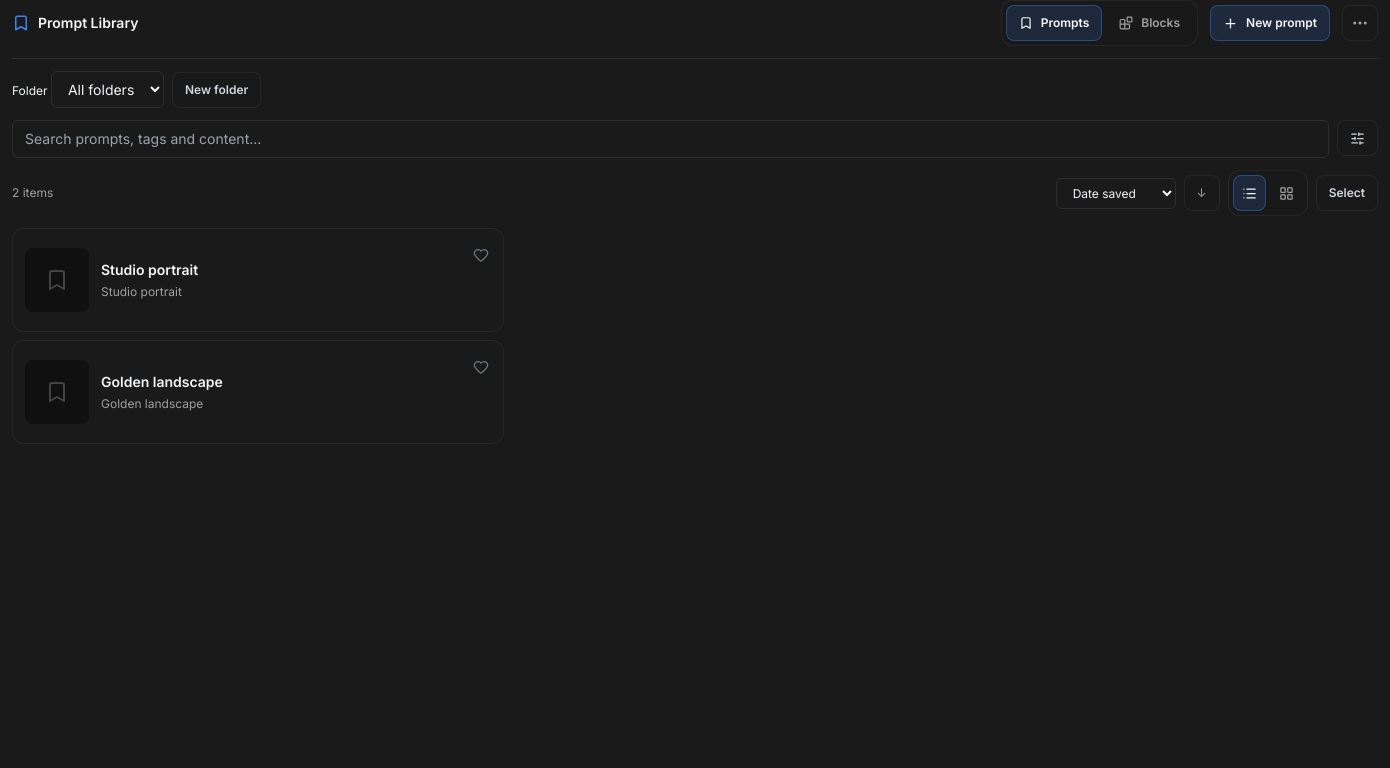
integrated Prompt Library › waits for tag saves before favorite on a block and uses the latest revision
The image size is (1390, 768).
Expected: the button with aria-label "Open Studio portrait" is shown, [25, 248, 491, 312]
Click the button "Blocks". click: (1150, 23)
box: [1106, 5, 1193, 41]
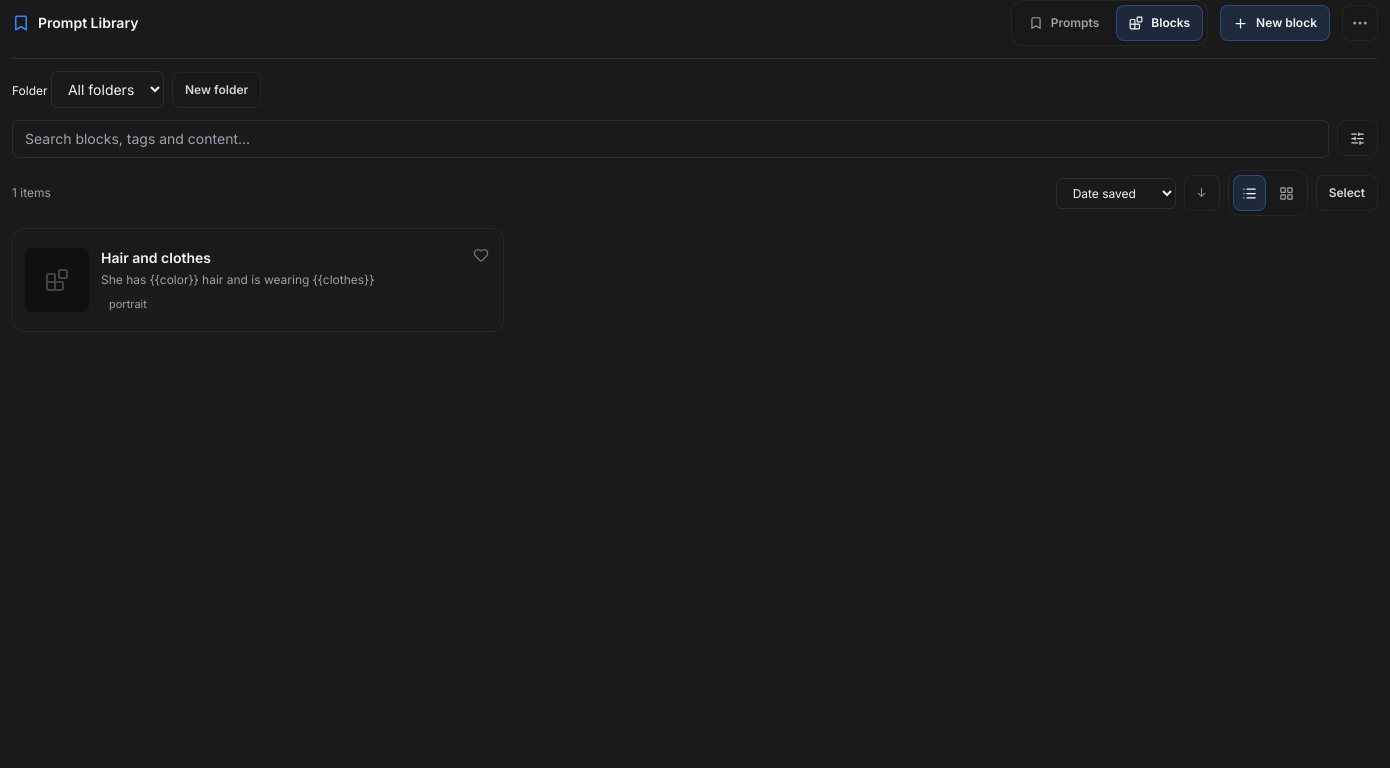
Click the button with aria-label "Open Hair and clothes". click: (258, 280)
box: [25, 248, 491, 312]
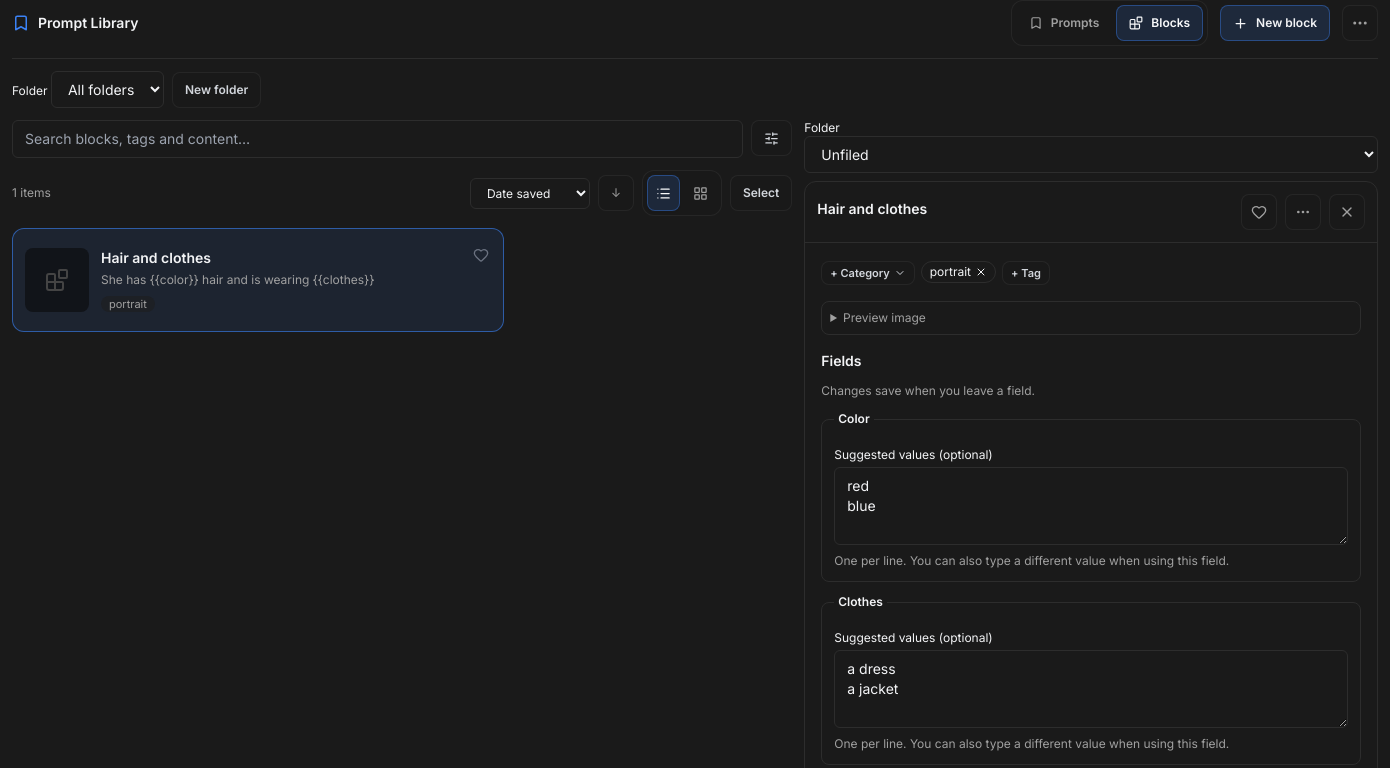
Click the button "+ Tag". click: (1026, 273)
box: [1002, 261, 1050, 285]
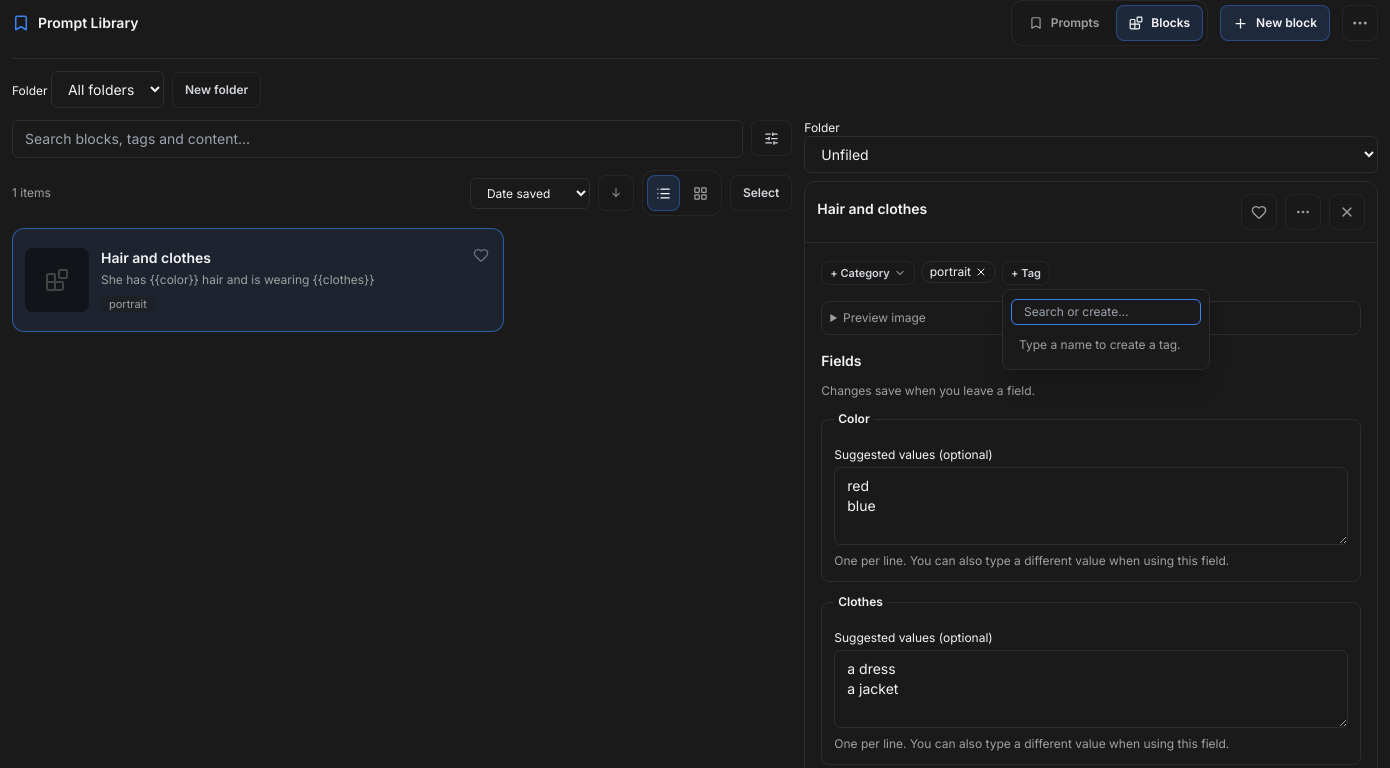
Type "new-tag" into the field named "Search or create tag". click: (1106, 312)
box: [1011, 299, 1201, 325]
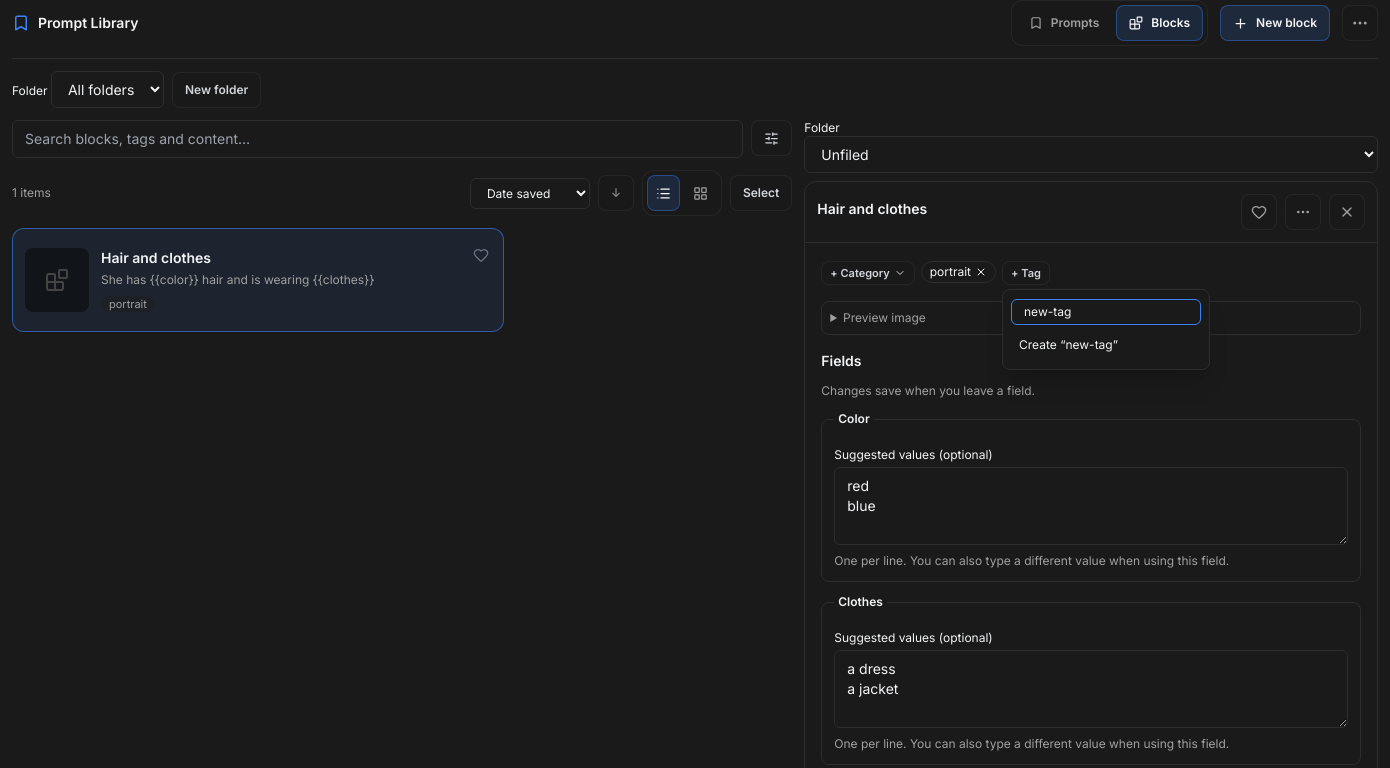
Press Enter in the field named "Search or create tag", box [1011, 299, 1201, 325]
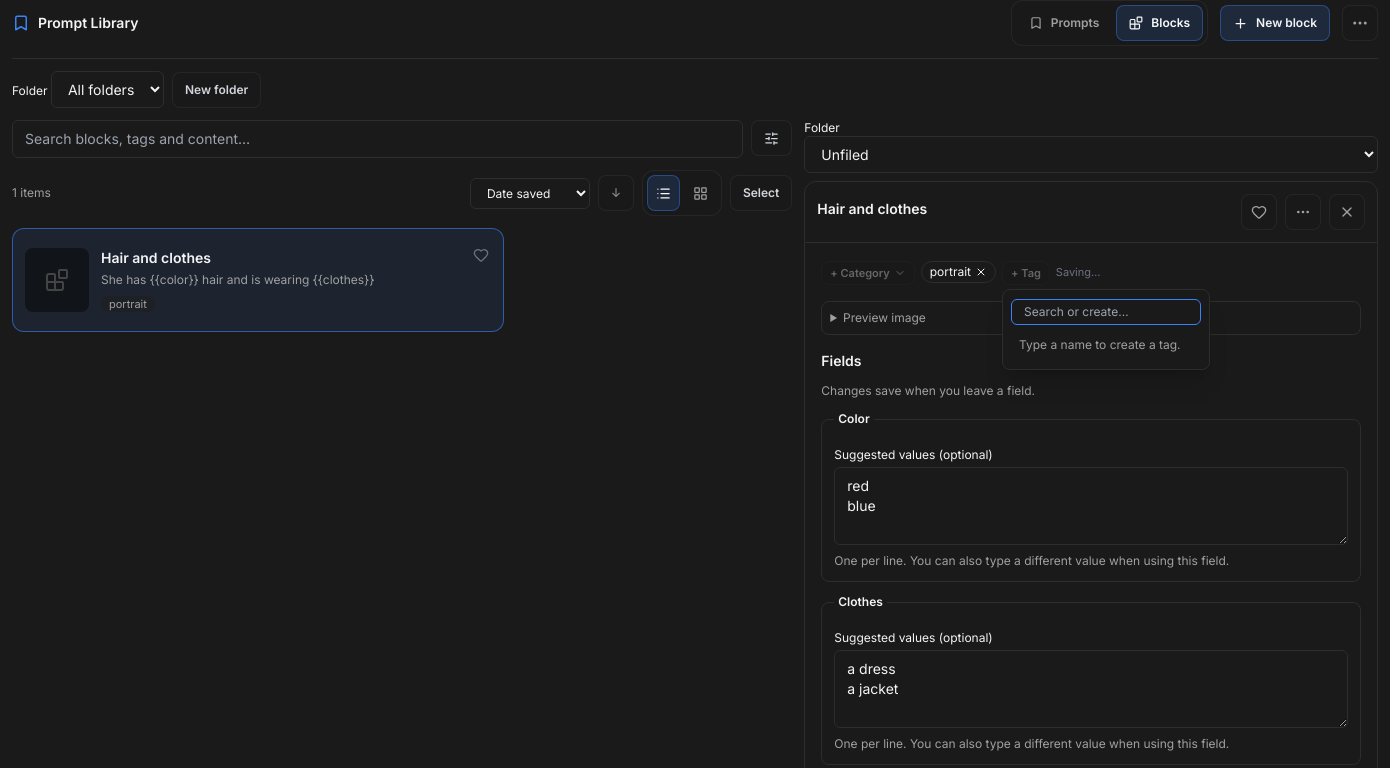
Click the button named "Toggle favorite". click: (1259, 212)
box: [1241, 194, 1277, 230]
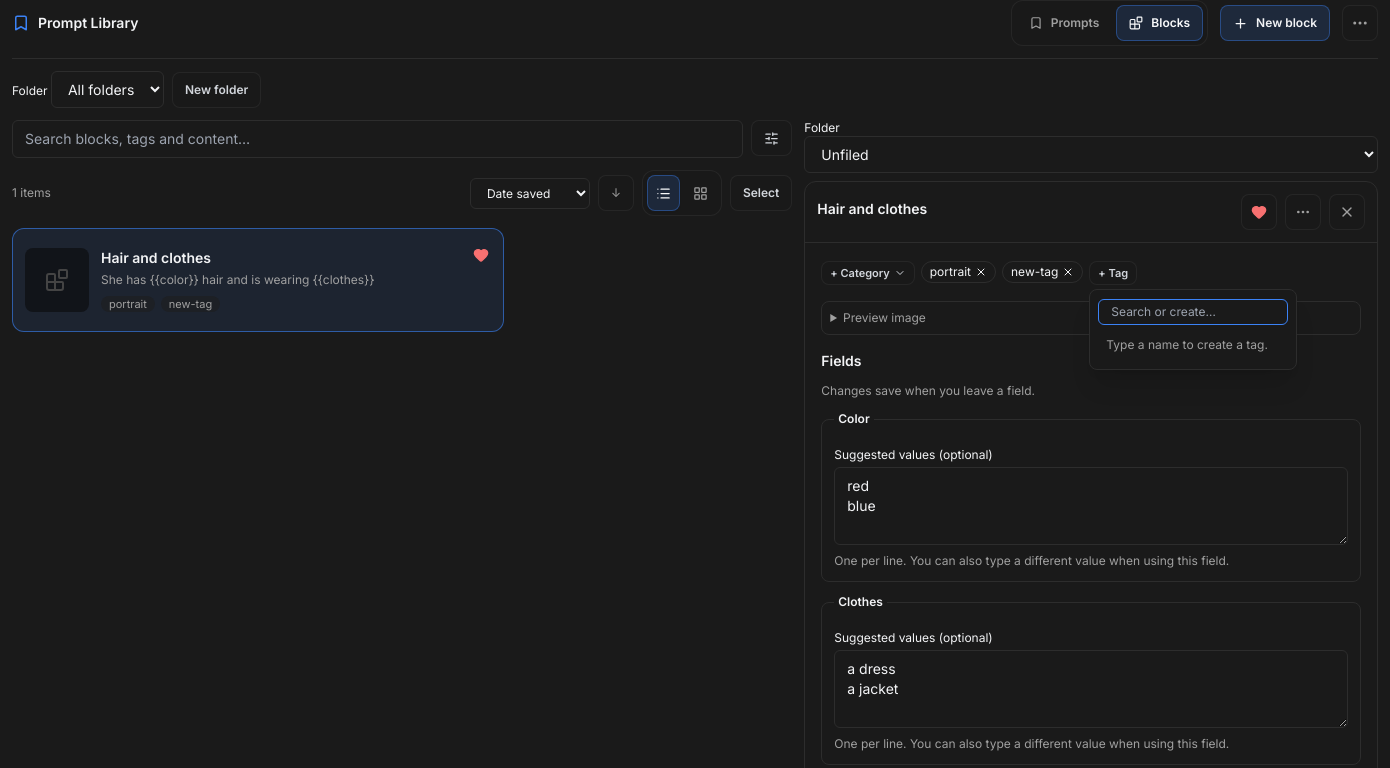
Expected: the text "new-tag" is shown, [161, 296, 220, 312]
Expected: the message "Saving…" is gone
